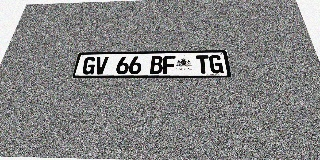plate: (72, 50, 231, 78)
